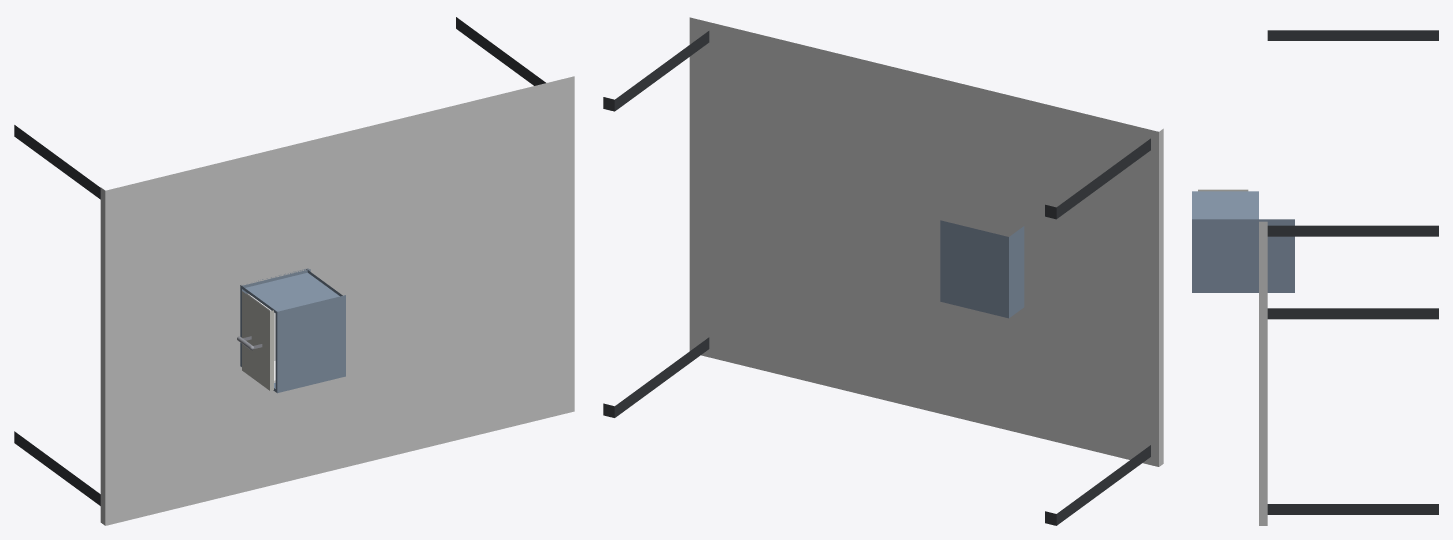
The picture shows the model from 3 angles, left to right: view 1: azimuth 30°, elevation 25°; view 2: azimuth 150°, elevation 25°; view 3: azimuth 270°, elevation 25°; orthographic projection. The views are drawn at different scales.
Visible parts, largest first — view 1: s0, s1, s2; view 2: s0, s1; view 3: s0, s1.
Boxes of the visible parts, x1,y1,x2,y2 form: s0: (14,17,574,525); s1: (240,268,345,393); s2: (237,291,275,390); s0: (603,17,1163,525); s1: (940,220,1024,318); s0: (1259,30,1438,525); s1: (1192,191,1294,292).
Bounding box in the file's own units: 2.05 × 1.4 × 1.03.
